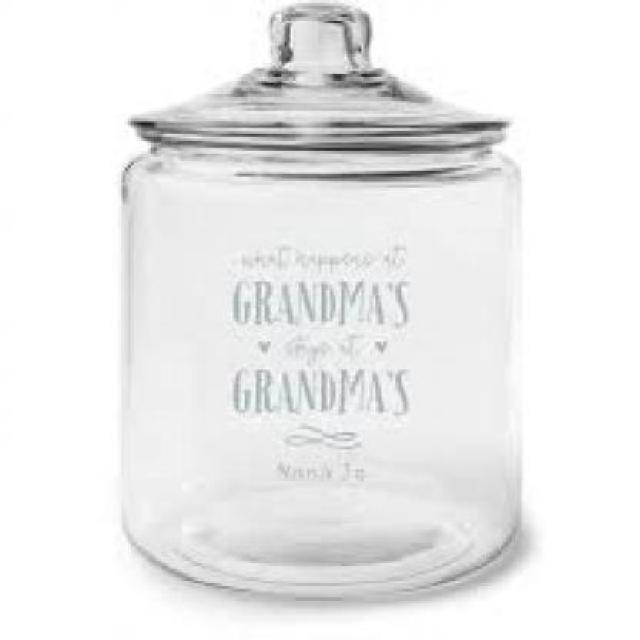kaca: (118, 0, 521, 595)
